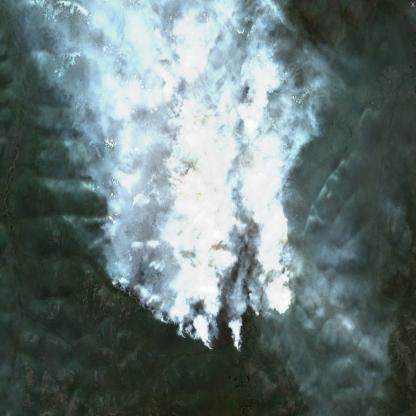fire: (103, 72, 297, 352)
